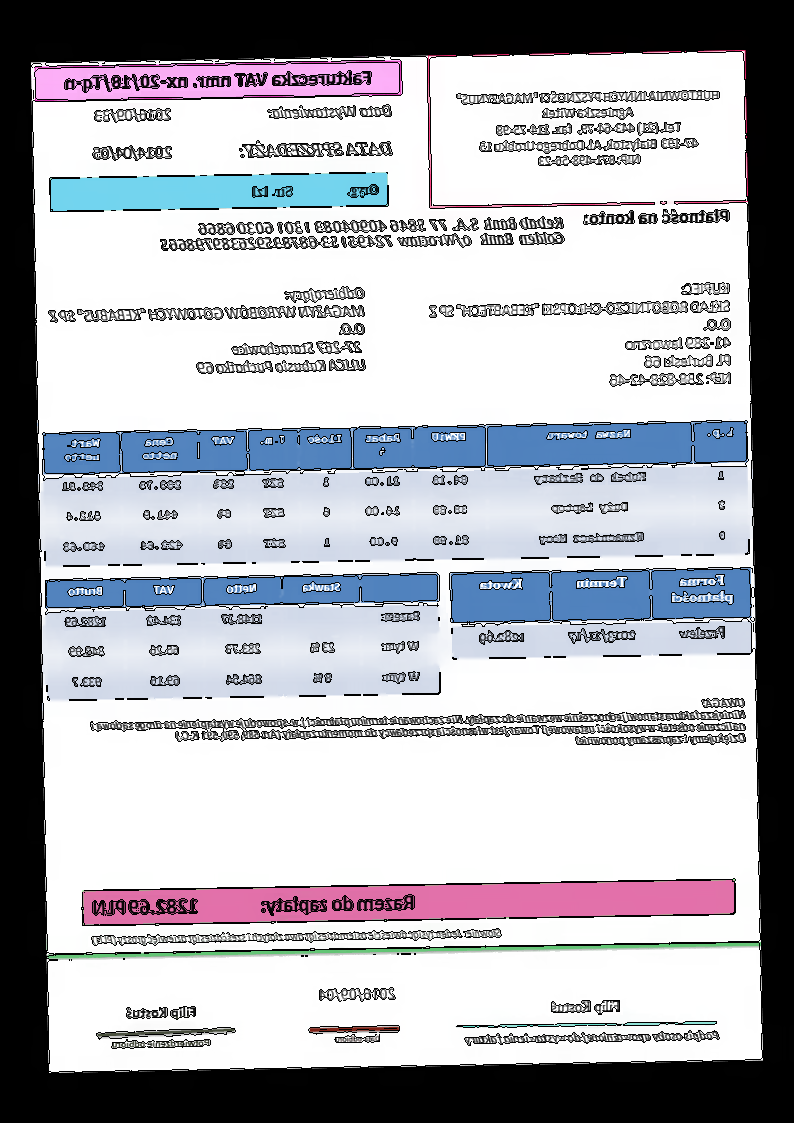Table: (41, 417, 751, 570), (44, 571, 443, 704), (450, 567, 754, 661)
TextBox: (87, 693, 749, 757), (426, 277, 735, 395), (44, 283, 369, 382), (454, 86, 726, 172), (157, 214, 568, 256), (90, 887, 418, 921), (91, 922, 506, 948), (63, 68, 377, 94), (459, 1028, 722, 1049), (238, 135, 396, 162), (583, 205, 736, 229), (249, 178, 384, 203), (267, 98, 397, 122), (90, 140, 177, 164), (314, 980, 398, 1004), (550, 995, 625, 1017), (110, 1035, 213, 1051), (120, 1001, 201, 1021), (92, 106, 175, 124), (330, 1030, 387, 1046)
